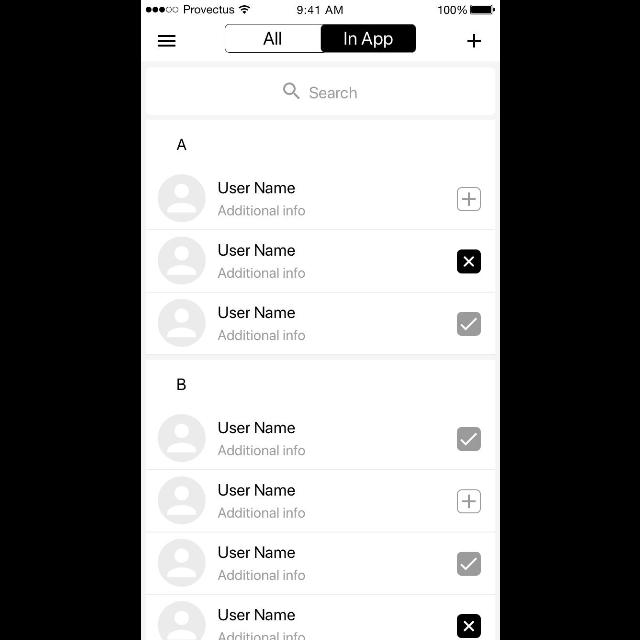icon: (157, 476, 205, 524), (158, 174, 205, 222), (158, 237, 205, 285), (158, 299, 205, 347), (158, 415, 205, 463), (158, 540, 205, 586), (158, 601, 206, 639), (457, 250, 481, 274), (457, 312, 481, 336), (457, 552, 481, 576), (457, 614, 481, 638), (458, 188, 480, 212), (457, 428, 481, 450), (457, 490, 481, 512), (282, 82, 300, 100), (157, 35, 175, 47), (467, 34, 481, 48)
input: (144, 68, 496, 115)
text: (216, 205, 306, 217), (218, 444, 304, 456), (217, 182, 295, 194), (218, 244, 294, 256), (218, 307, 294, 319), (218, 422, 294, 434), (218, 484, 294, 496), (218, 546, 294, 558), (218, 609, 294, 621), (217, 570, 305, 580), (218, 268, 304, 278), (218, 330, 304, 340), (218, 508, 304, 518), (218, 632, 304, 640), (309, 87, 356, 99), (174, 138, 186, 152), (176, 378, 186, 389)
textbutton: (225, 24, 322, 54), (320, 24, 416, 54)
uppertaskbar: (140, 1, 500, 16)
